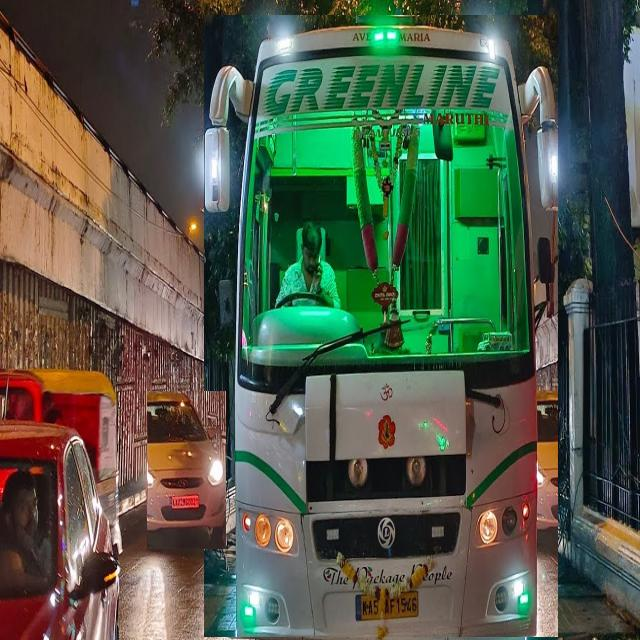bus: (204, 15, 558, 637)
car: (147, 391, 225, 549)
